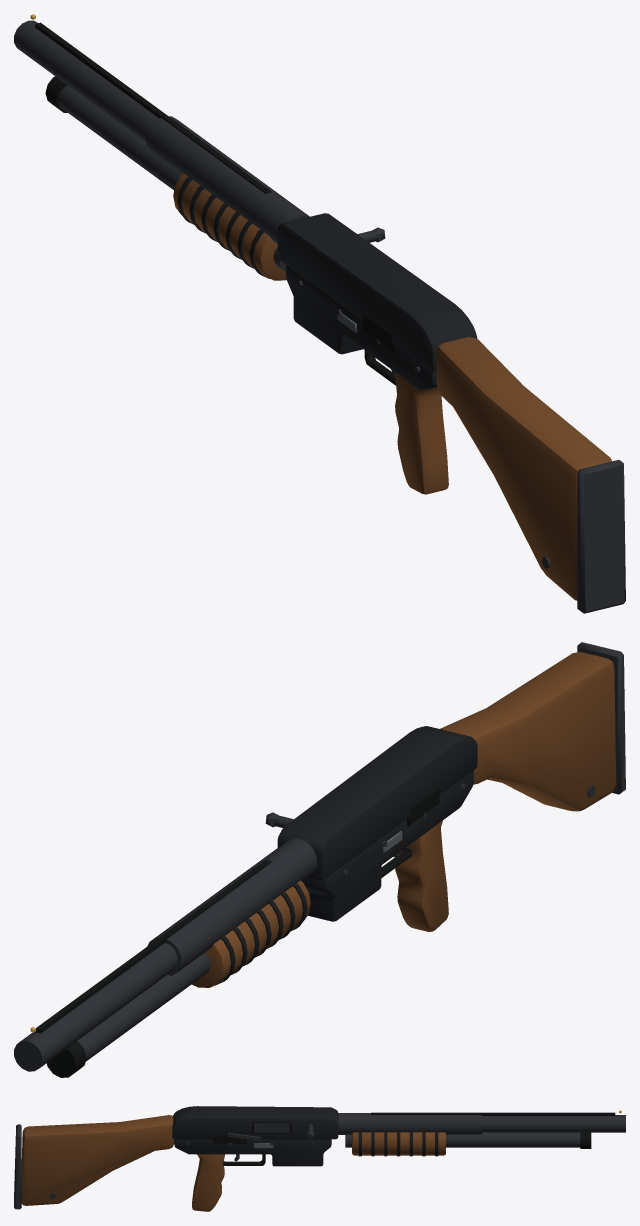
Rendered from gun_06.glb.
3 renders of one model, top to bottom at view 1: azimuth 30°, elevation 25°; view 2: azimuth 150°, elevation 25°; view 3: azimuth 270°, elevation 25°, orthographic. The views are drawn at different scales.
Parts seen in each view (by area): view 1: gun_06; view 2: gun_06; view 3: gun_06.
Boxes of the visible parts, <box> form: gun_06: <box>14,14,625,613</box>; gun_06: <box>14,642,625,1077</box>; gun_06: <box>14,1106,625,1211</box>.
Size of the model in its own units: 0.0957 by 0.1978 by 1.11.
